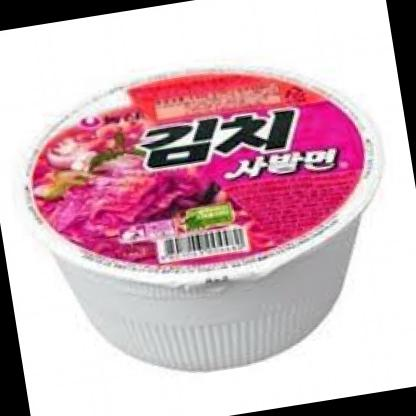Ramen: (3, 35, 416, 400)
